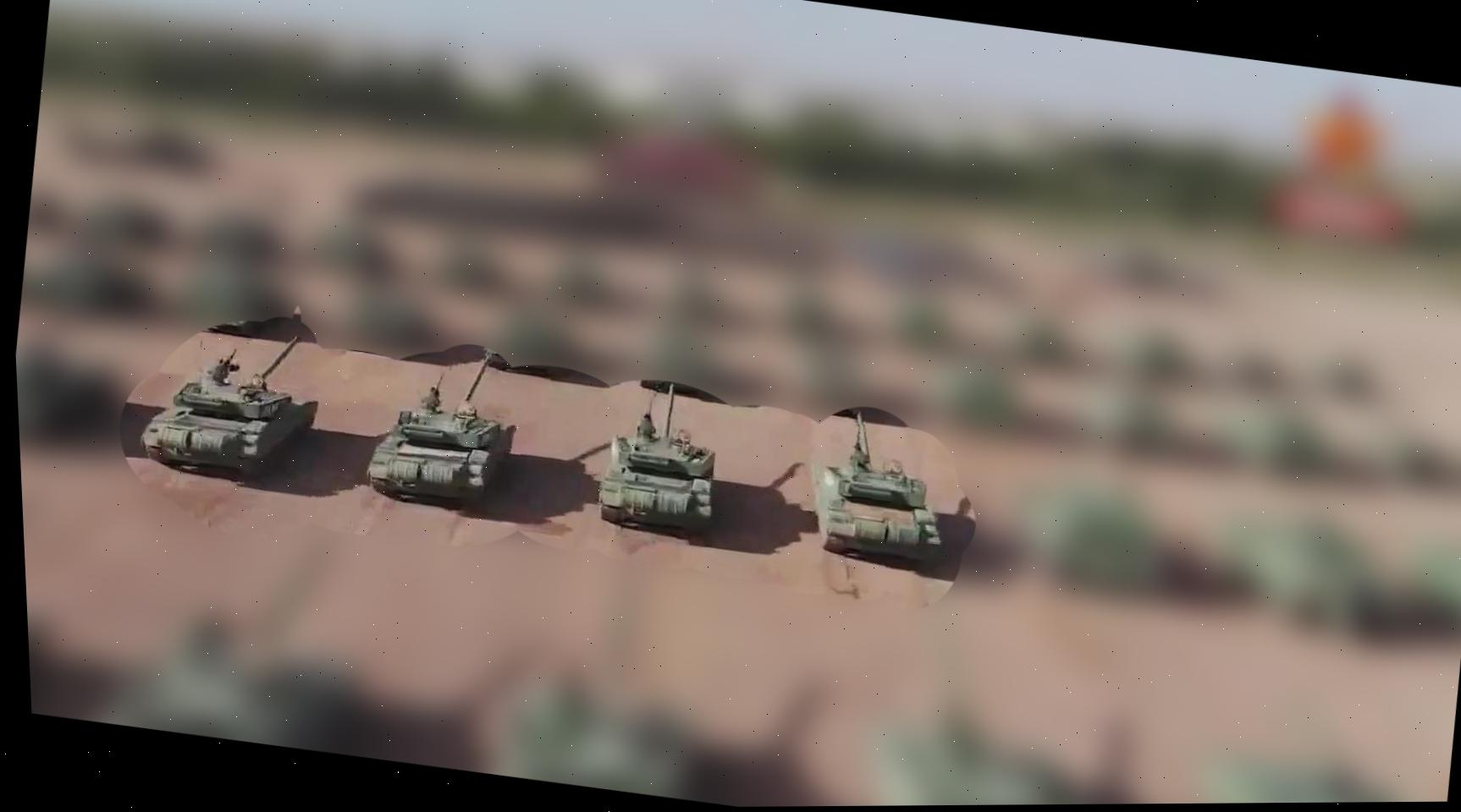tank: (131, 317, 331, 494), (357, 333, 526, 518), (798, 400, 972, 579), (586, 372, 733, 542)
